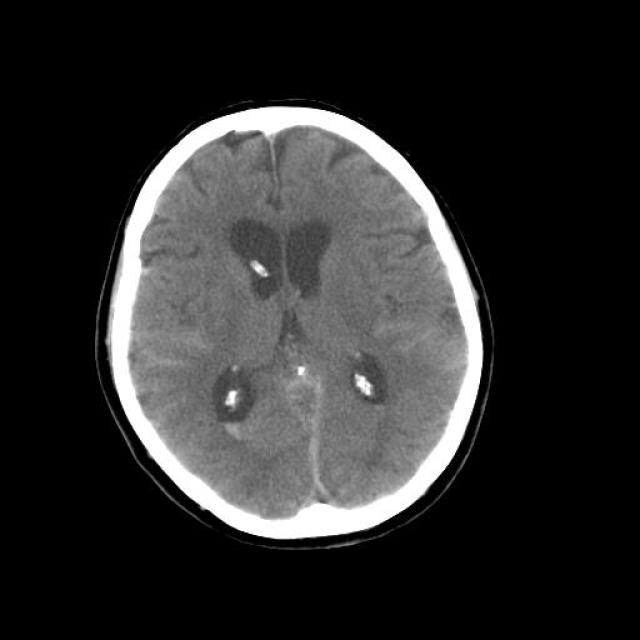Intraventricular: (216, 414, 249, 446)
Subarachnoid: (128, 326, 202, 422)
Subdural: (210, 416, 251, 550)
